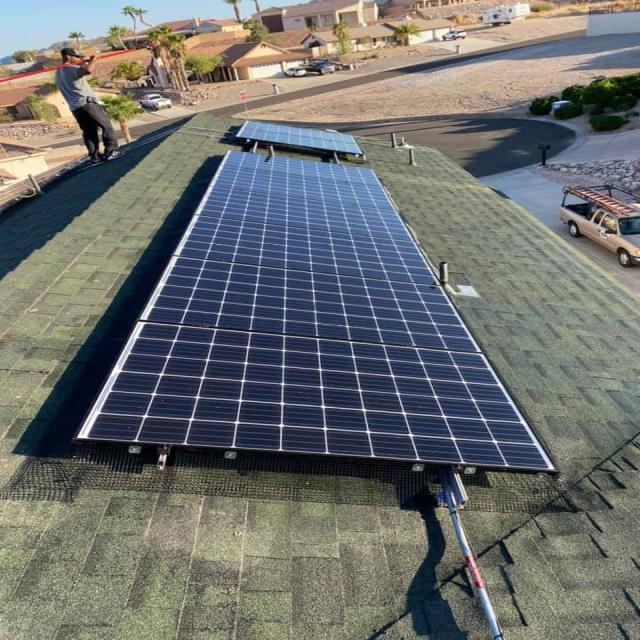Photovoltaic-Panel: (77, 151, 553, 471)
